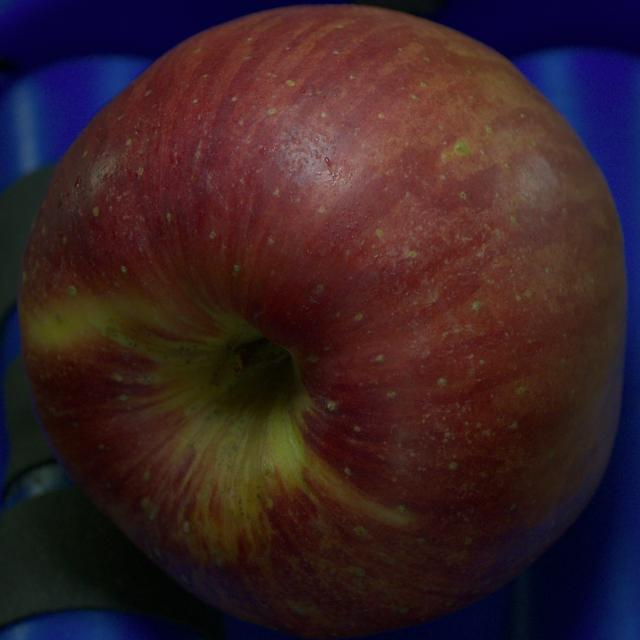apple: (18, 6, 626, 639)
